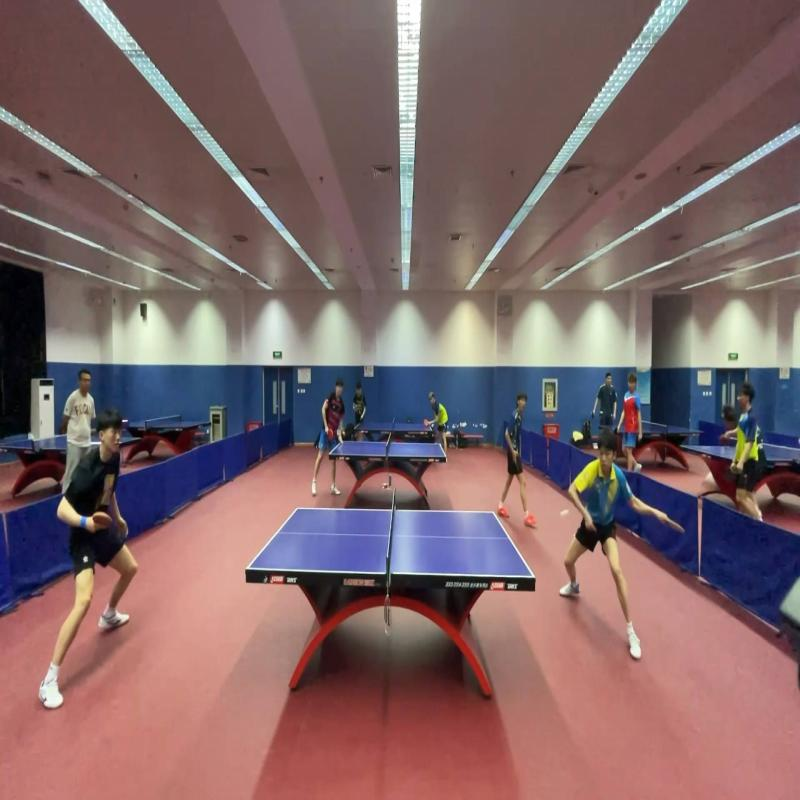bats: (89, 509, 113, 533)
